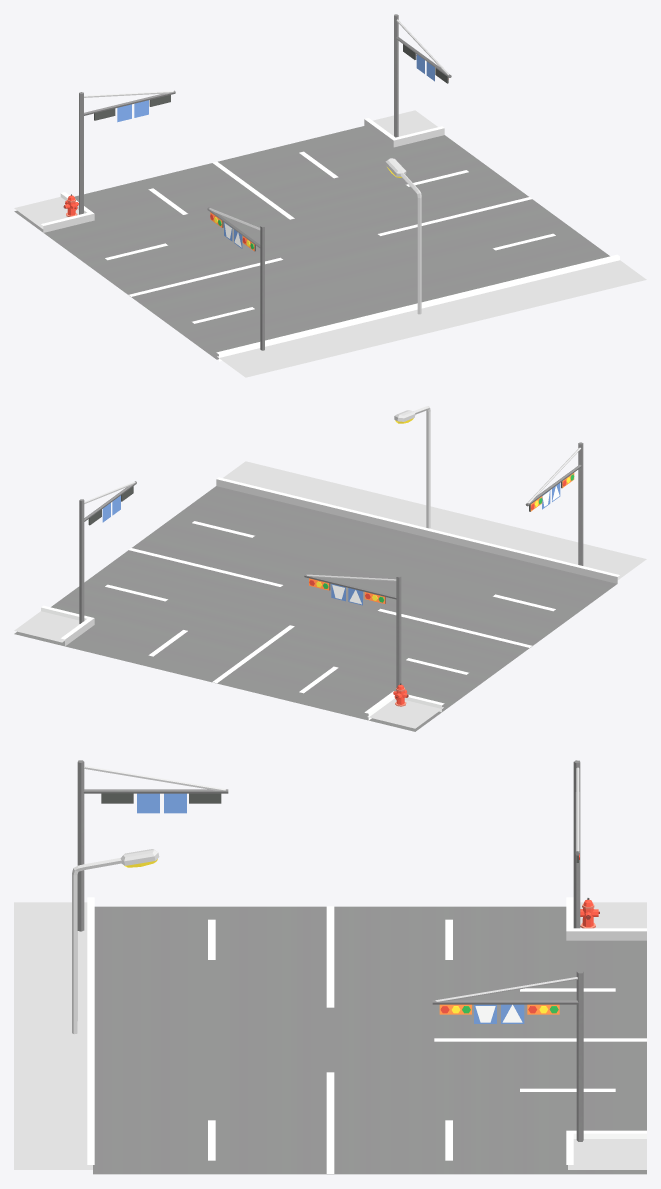
File: road_tile_2x2_2.glb
3 views of the same model, one above another, from view 1: azimuth 30°, elevation 25°; view 2: azimuth 150°, elevation 25°; view 3: azimuth 270°, elevation 25° (orthographic). The views are drawn at different scales.
Parts seen in each view (by area): view 1: road_tile_2x2_2(Clone); view 2: road_tile_2x2_2(Clone); view 3: road_tile_2x2_2(Clone).
Part boxes in pixels (x1=…): road_tile_2x2_2(Clone): x1=14, y1=14, x2=646, y2=377; road_tile_2x2_2(Clone): x1=14, y1=406, x2=646, y2=731; road_tile_2x2_2(Clone): x1=14, y1=760, x2=646, y2=1174.
Size of the model in its own units: 16 by 5.25 by 16.
Materials: 1 (1 with a texture image).
